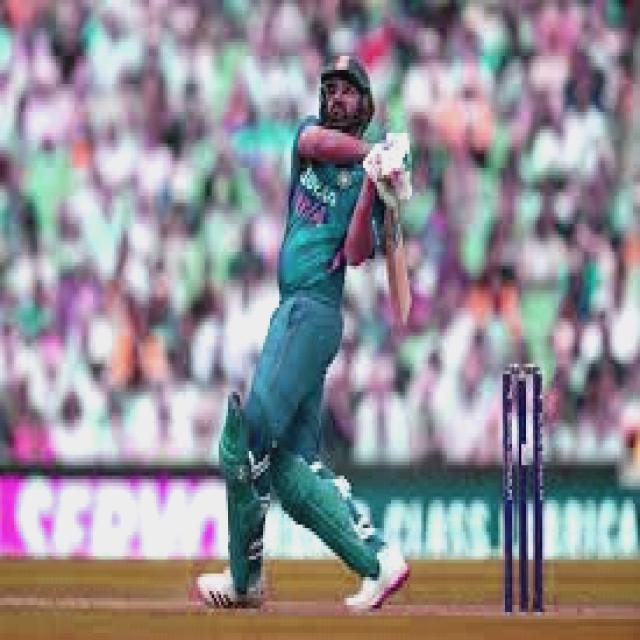toe: (384, 273, 418, 337)
